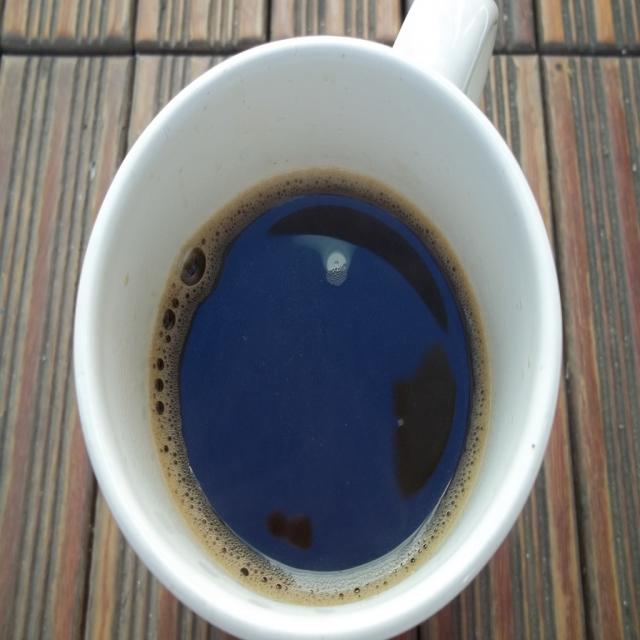Tea: (151, 169, 491, 610)
